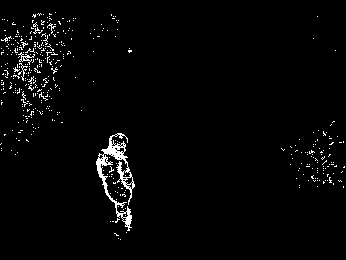person: (94, 127, 140, 242)
